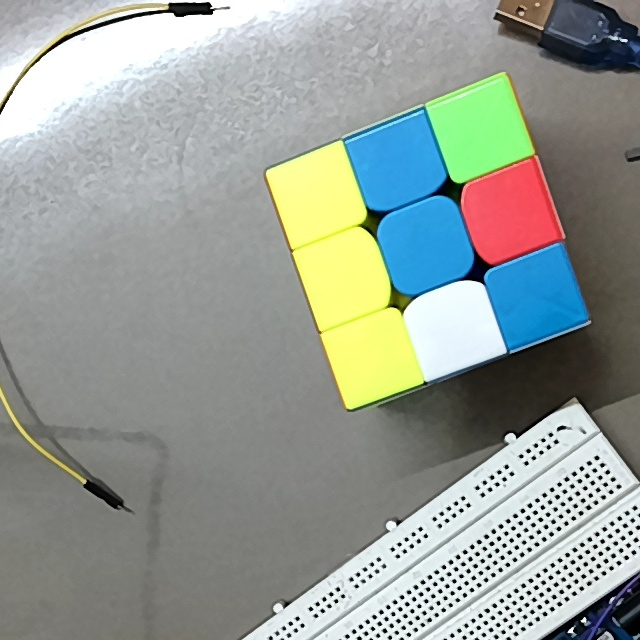tile: (390, 214, 459, 276), (483, 175, 544, 242), (506, 264, 569, 327), (313, 243, 374, 308), (448, 100, 514, 160), (285, 166, 349, 226), (368, 132, 430, 193), (339, 329, 403, 388), (423, 298, 484, 356)
